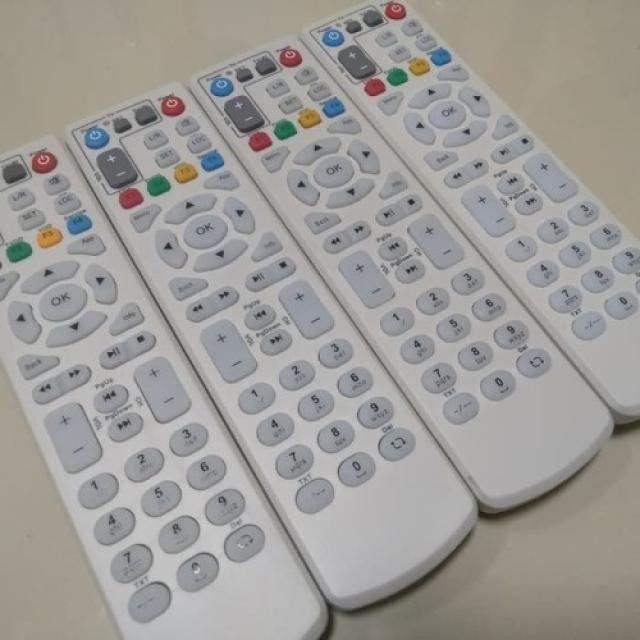remote: (59, 80, 483, 618), (188, 31, 618, 516), (2, 137, 333, 640), (304, 0, 640, 424)
